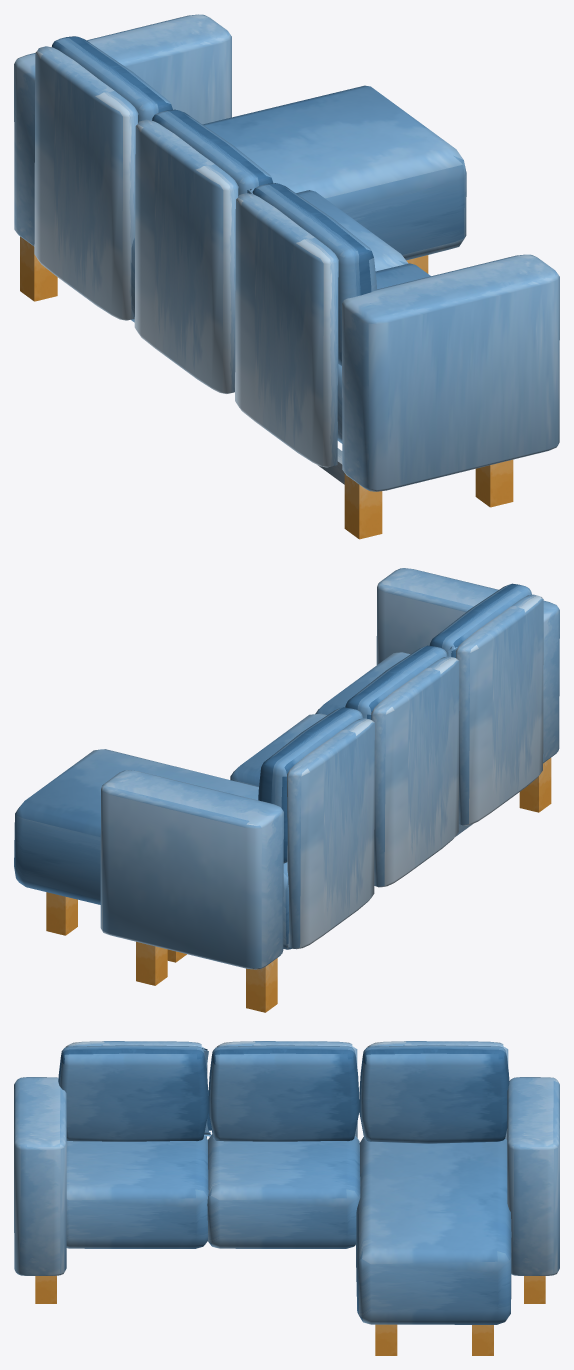
Rendered from Obj_Couch_Long.gltf.
The picture shows the model from 3 angles, top to bottom: view 1: azimuth 30°, elevation 25°; view 2: azimuth 150°, elevation 25°; view 3: azimuth 270°, elevation 25°; orthographic projection. The views are drawn at different scales.
Parts seen in each view (by area): view 1: Obj_Couch_Long; view 2: Obj_Couch_Long; view 3: Obj_Couch_Long.
Boxes of the visible parts, <box> form: Obj_Couch_Long: <box>14,14,559,539</box>; Obj_Couch_Long: <box>14,568,559,1012</box>; Obj_Couch_Long: <box>14,1041,559,1355</box>.
Size of what is drawn, in the model's own units: 2.07 by 1.56 by 3.77.
Materials: 1 (1 with a texture image).
